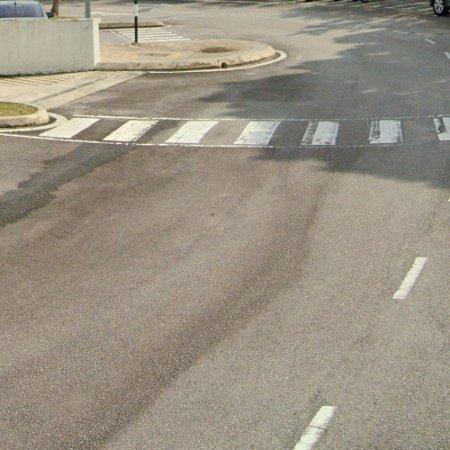crosswalks: (27, 113, 450, 148)
